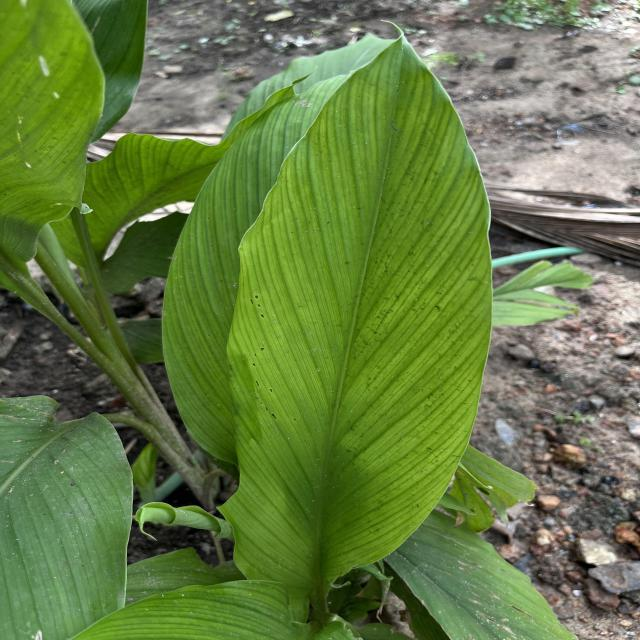Curcuma longa: (208, 11, 502, 606)
